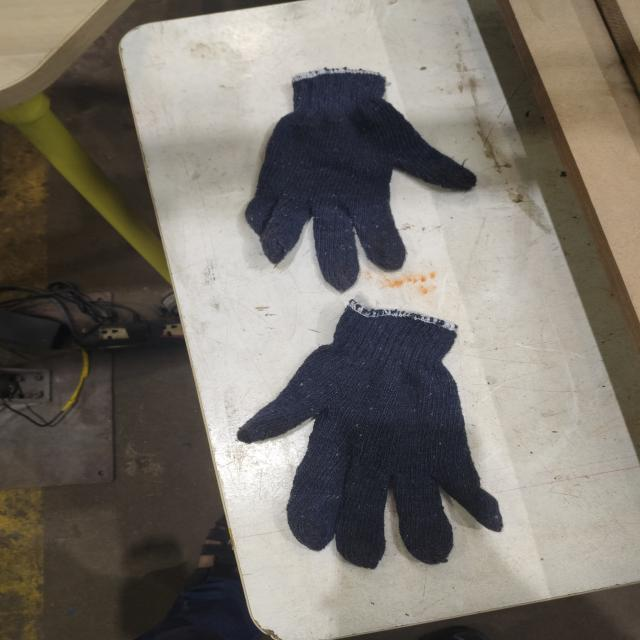Gloves-Detection: (244, 290, 509, 565), (235, 59, 453, 290)
